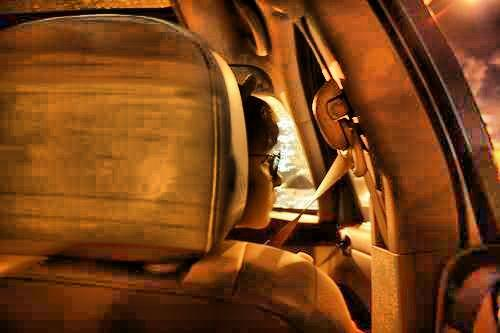seatbelt: (273, 154, 382, 250)
